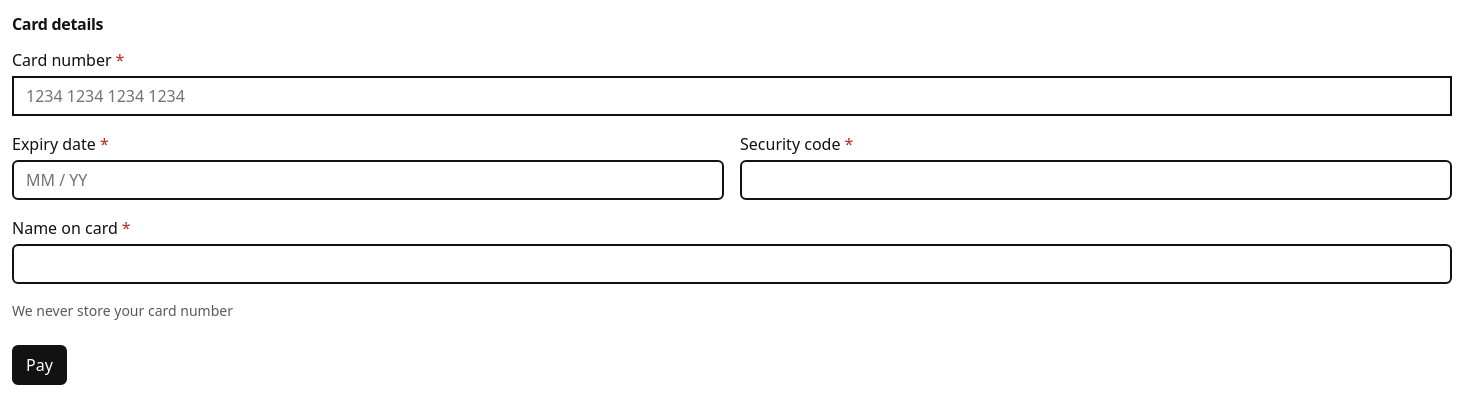
Test case: PaymentCardForm security (AC-11, AC-12) › AC-12: values are cleared in the still-mounted inputs after submit by default
In the field labelled "Card number*": (732, 96) top-left (12, 76), bottom-right (1452, 116), type "4242 4242 4242 4242"
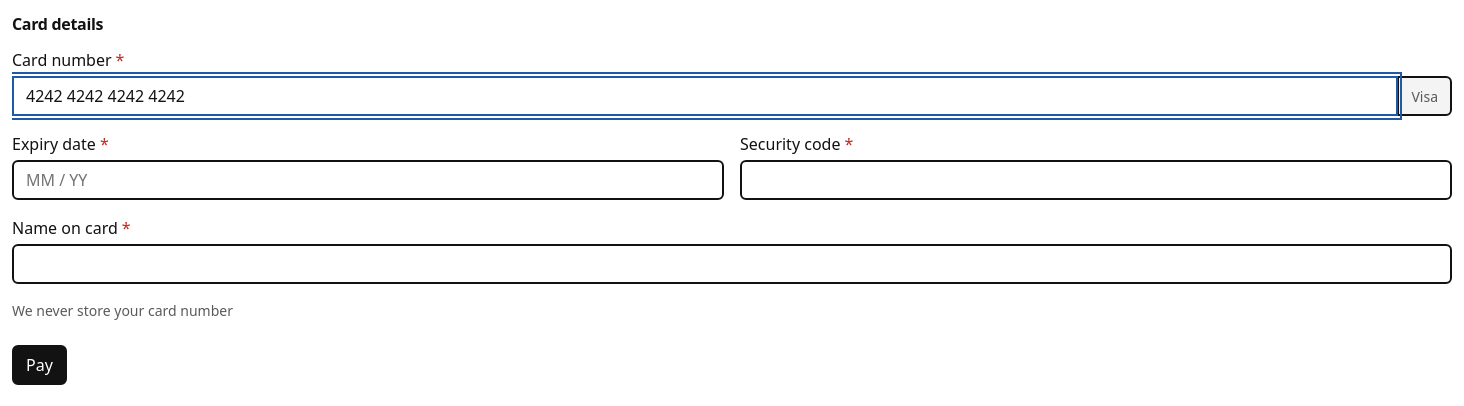
In the field labelled "Expiry date*": (368, 180) top-left (12, 160), bottom-right (724, 200), type "12 / 30"
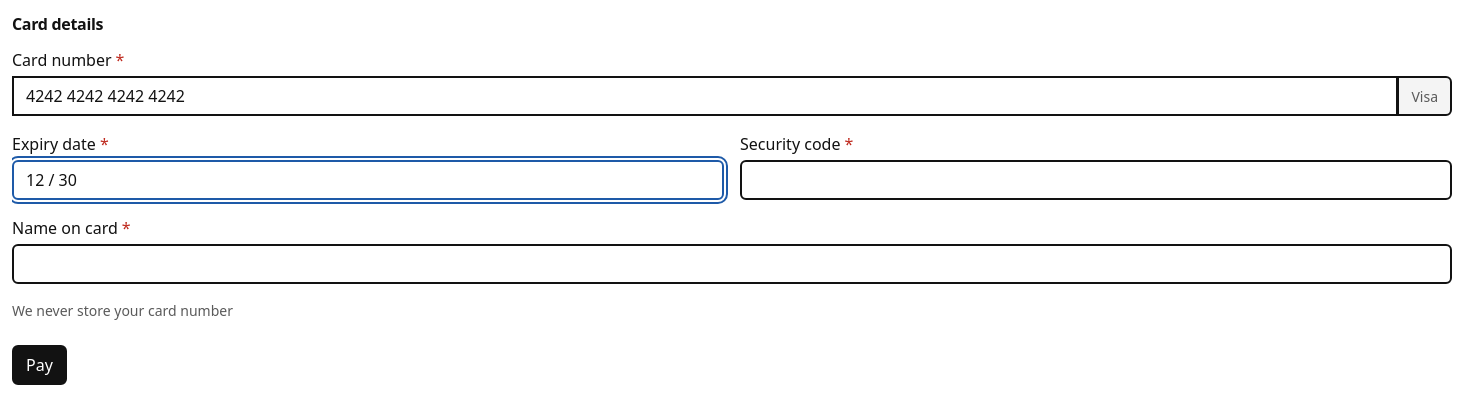
In the field labelled "Security code*": (1096, 180) top-left (740, 160), bottom-right (1452, 200), type "314"
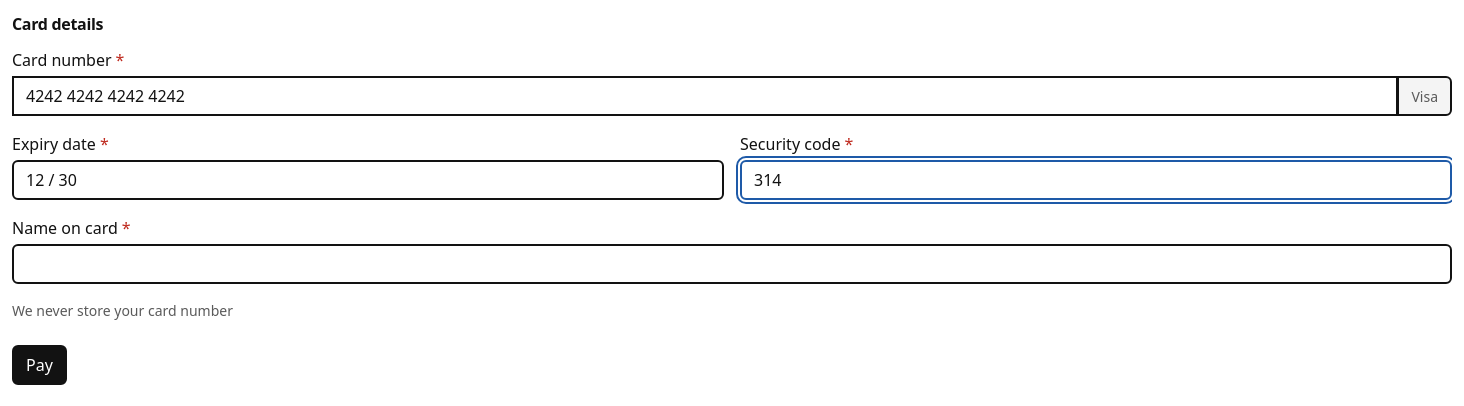
In the field labelled "Name on card*": (732, 264) top-left (12, 244), bottom-right (1452, 284), type "Ada Lovelace"
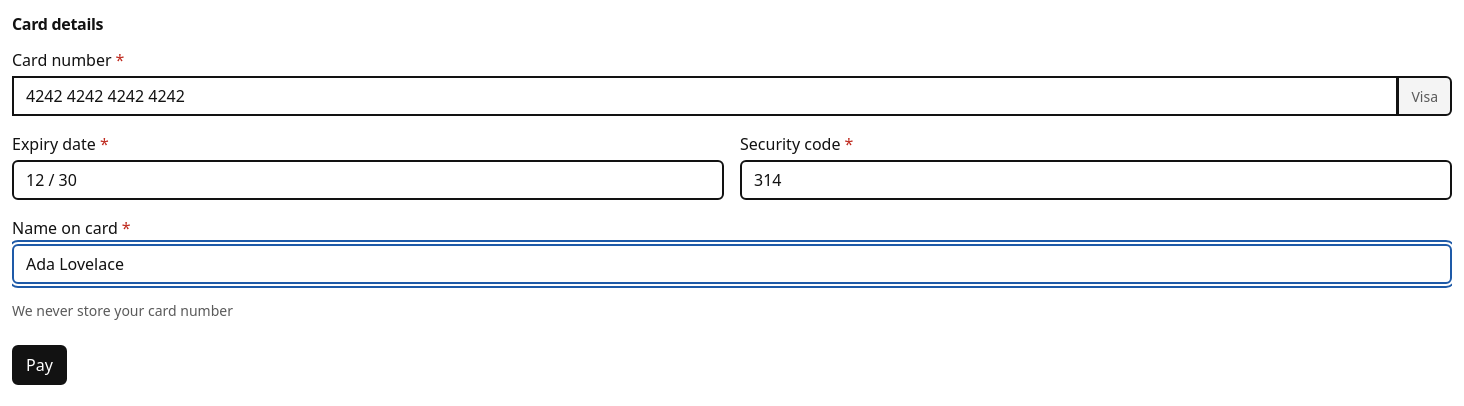
Click the button "Pay": (39, 365) top-left (12, 345), bottom-right (67, 385)
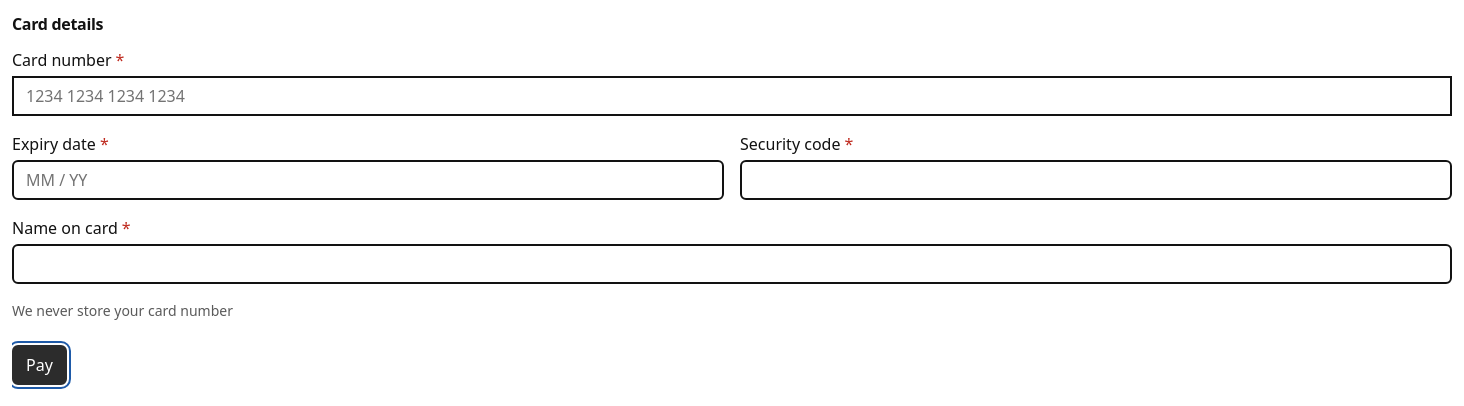
In the field labelled "Expiry date*": (368, 180) top-left (12, 160), bottom-right (724, 200), type "4"
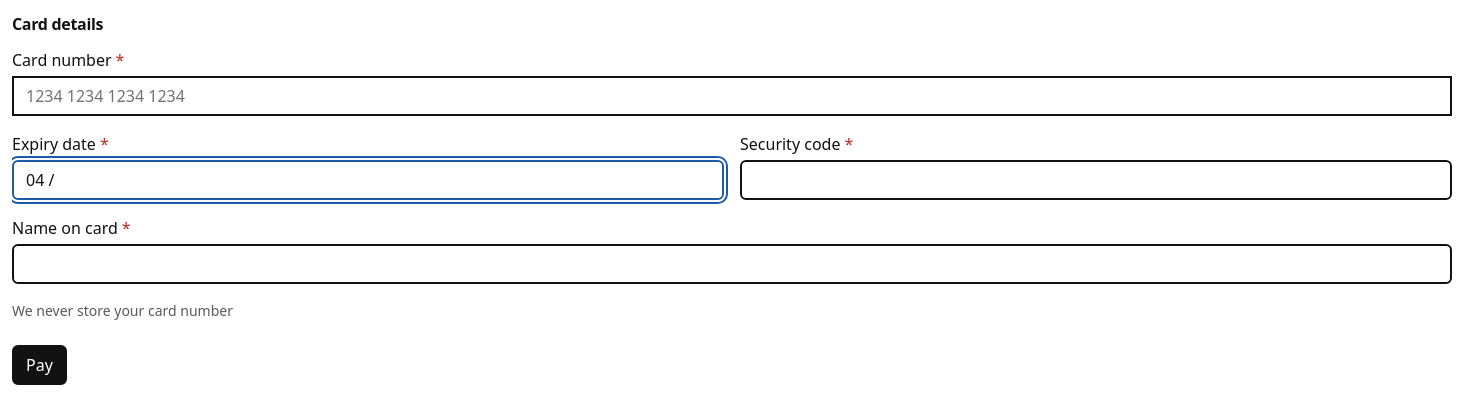
Expected: the field labelled "Expiry date*" holds "04 / ", top-left (12, 160), bottom-right (724, 200)
